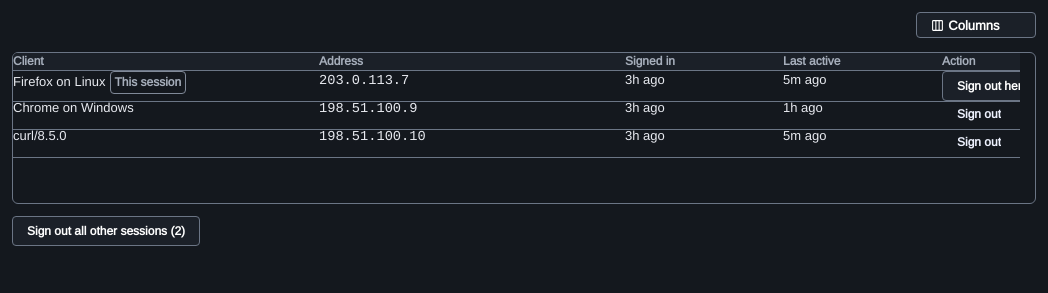
Test: SessionsManager, own sessions › signs out every other session at once and says how many
Click the button "Sign out all other sessions (2)" at (106, 231), box [12,216,200,246]
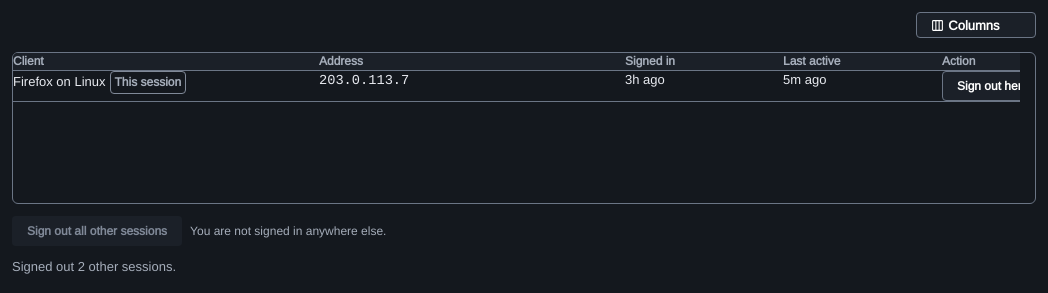
Result: the text "Signed out 2 other sessions." is shown at [12,258,176,276]
Result: the text "Chrome on Windows" is gone
Result: the button "Sign out all other sessions" is disabled at [12,216,182,246]
